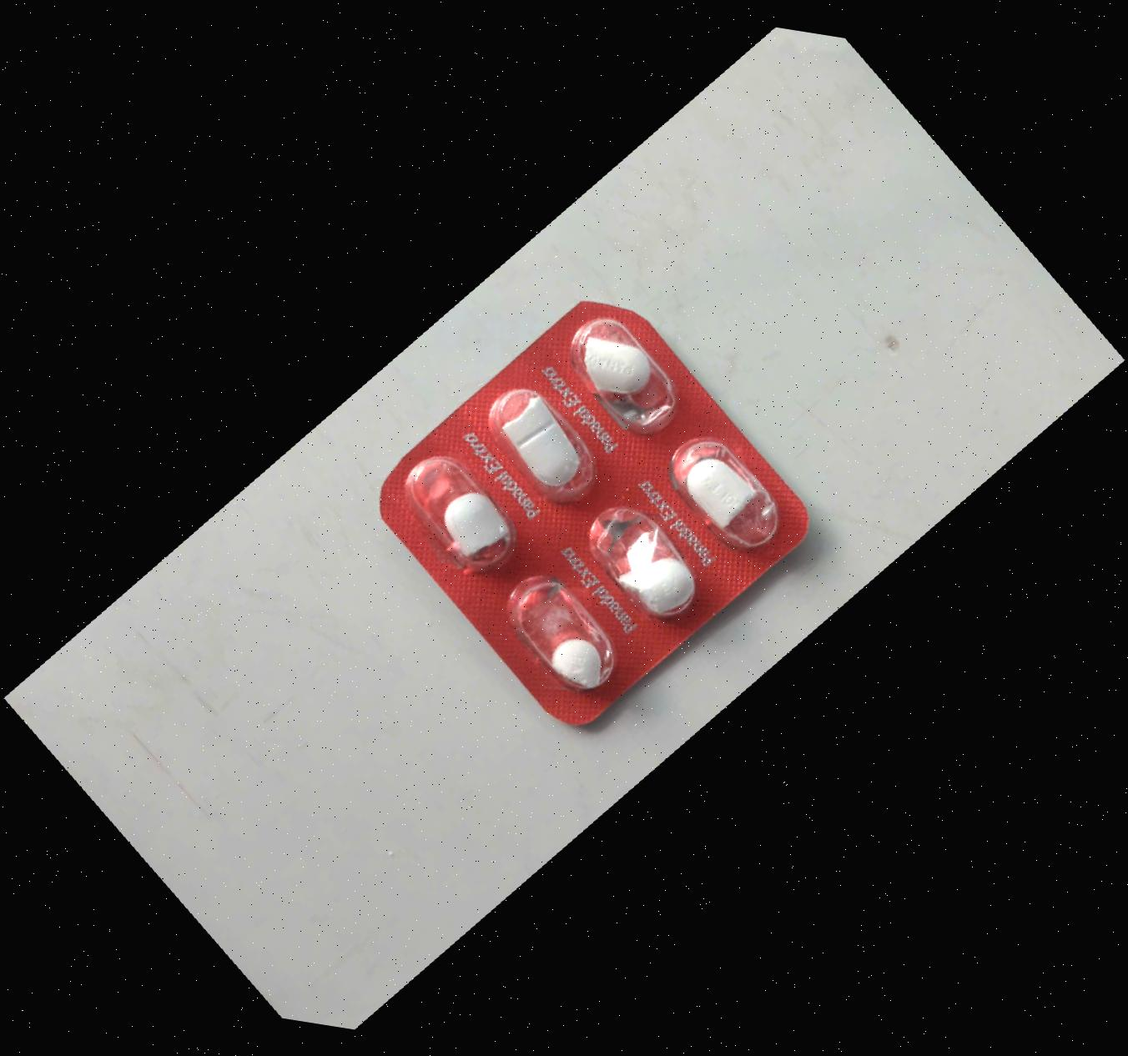Partial: (466, 349, 628, 530), (390, 410, 552, 591), (546, 280, 708, 460), (483, 539, 644, 720), (566, 475, 727, 656), (645, 403, 806, 583)
